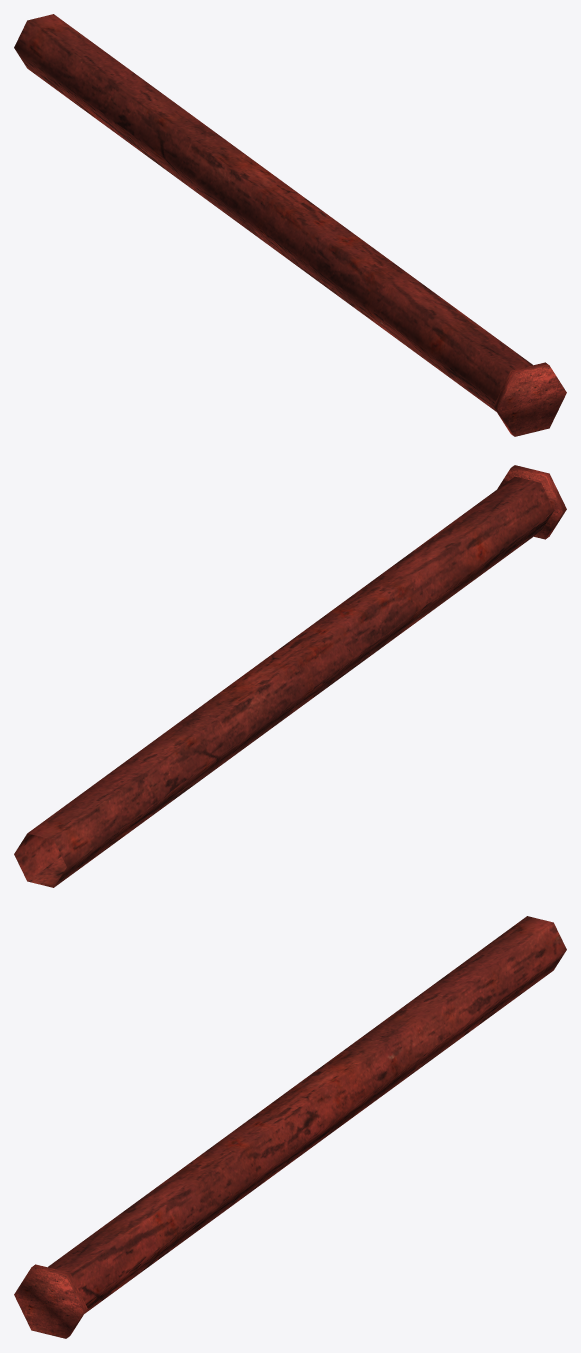
Rendered from small_red_8.fbx.
The picture shows the model from 3 angles, top to bottom: view 1: azimuth 30°, elevation 25°; view 2: azimuth 150°, elevation 25°; view 3: azimuth 330°, elevation 25°; orthographic projection.
Visible parts, largest first — view 1: polySurface635; view 2: polySurface635; view 3: polySurface635.
Part boxes in pixels (x1=…): polySurface635: x1=14, y1=14, x2=566, y2=436; polySurface635: x1=14, y1=465, x2=566, y2=887; polySurface635: x1=14, y1=916, x2=566, y2=1338.
Size of the model in its own units: 0.6563 by 0.5683 by 8.03.
